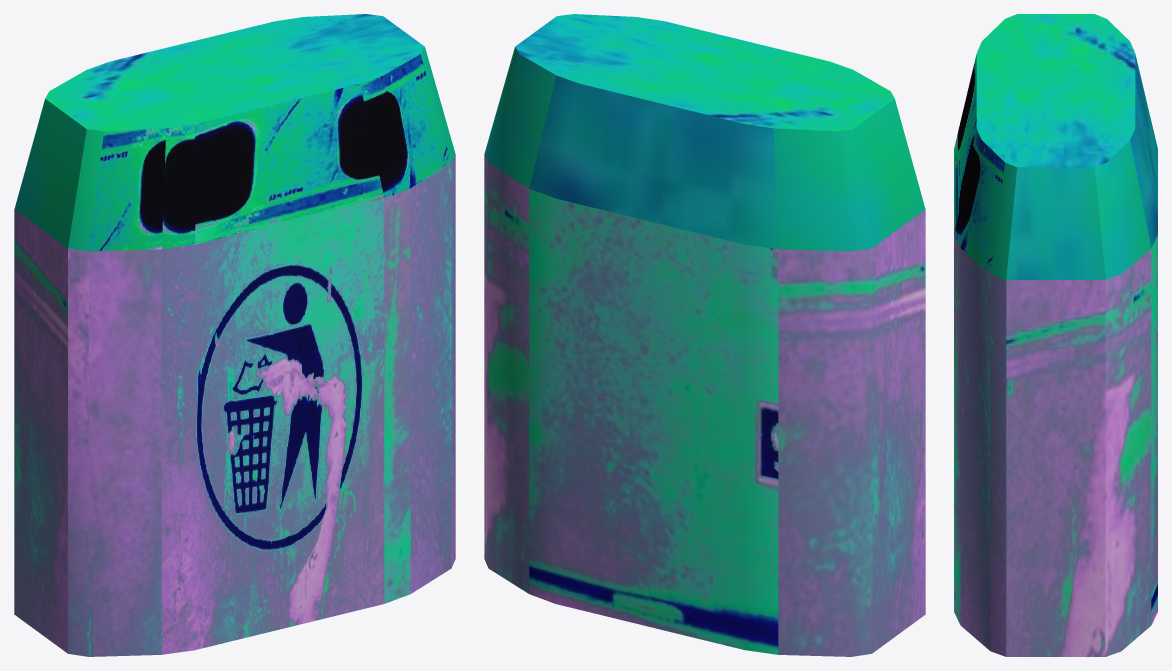
Rendered from Pappers.obj.
3 renders of one model, left to right at view 1: azimuth 30°, elevation 25°; view 2: azimuth 150°, elevation 25°; view 3: azimuth 270°, elevation 25°, orthographic. The views are drawn at different scales.
Visible parts, largest first — view 1: Cube.005; view 2: Cube.005; view 3: Cube.005.
Part boxes in pixels (bbox=[...]): Cube.005: bbox=[14, 14, 455, 656]; Cube.005: bbox=[484, 14, 925, 656]; Cube.005: bbox=[954, 14, 1157, 656].
Bounding box in the file's own units: 0.2312 × 0.2932 × 0.1133.
